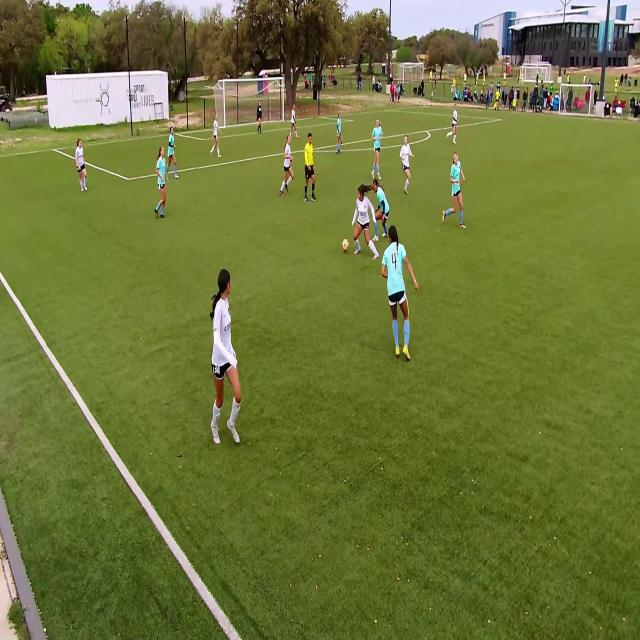ball: (342, 236, 349, 252)
team1: (384, 225, 416, 365), (446, 152, 469, 230), (374, 178, 394, 240), (156, 152, 171, 220), (372, 115, 384, 177), (167, 128, 179, 181), (336, 110, 345, 156)
team2: (207, 270, 245, 455), (351, 185, 379, 260), (282, 133, 298, 197), (400, 136, 416, 195), (75, 140, 89, 193), (210, 117, 220, 157), (450, 104, 460, 144), (291, 109, 299, 141)
